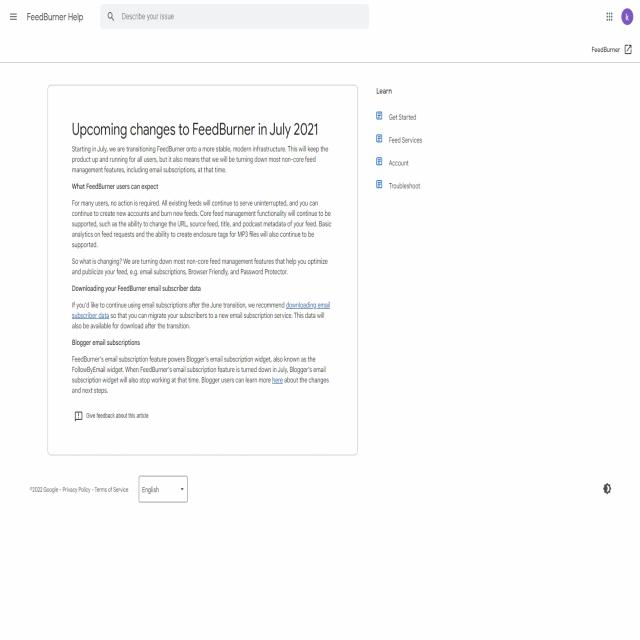menu-bar: (601, 4, 635, 29), (3, 3, 23, 30)
search: (99, 2, 370, 30)
